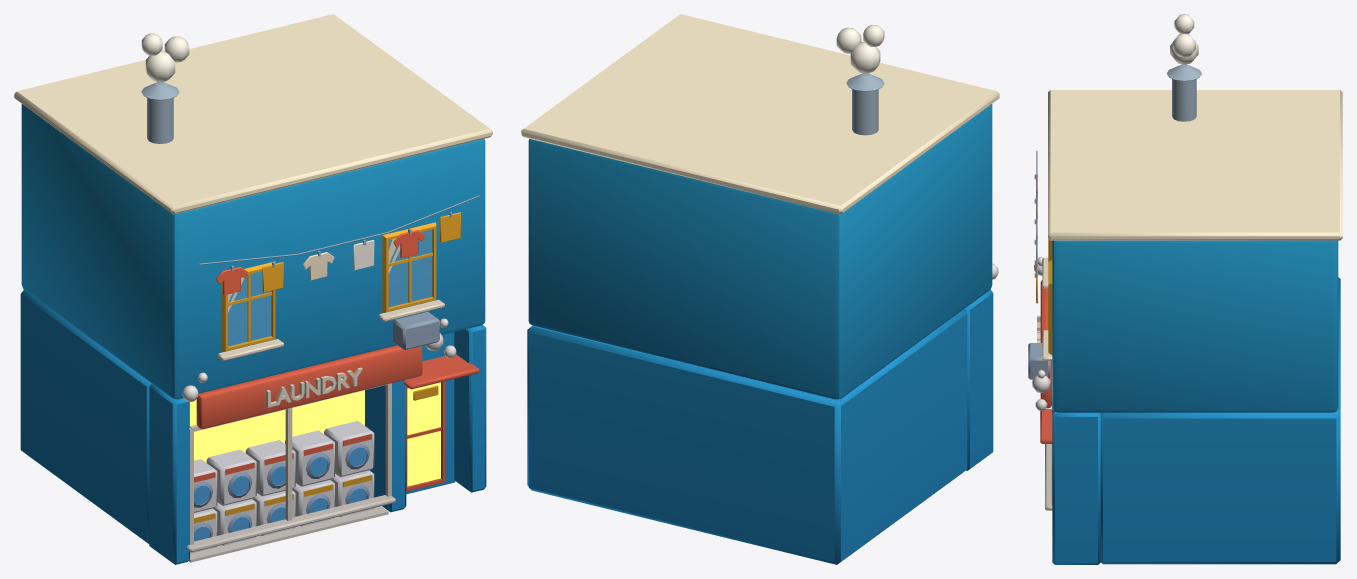
The model's file is shop_laundry.glb.
3 renders of one model, left to right at view 1: azimuth 30°, elevation 25°; view 2: azimuth 150°, elevation 25°; view 3: azimuth 270°, elevation 25°, orthographic. The views are drawn at different scales.
Visible parts, largest first — view 1: shop_laundry; view 2: shop_laundry; view 3: shop_laundry.
Boxes of the visible parts, x1=… form: shop_laundry: x1=14, y1=14, x2=492, y2=564; shop_laundry: x1=521, y1=14, x2=999, y2=564; shop_laundry: x1=1028, y1=14, x2=1342, y2=564.
Bounding box in the file's own units: 7.8 × 10.84 × 7.15.
